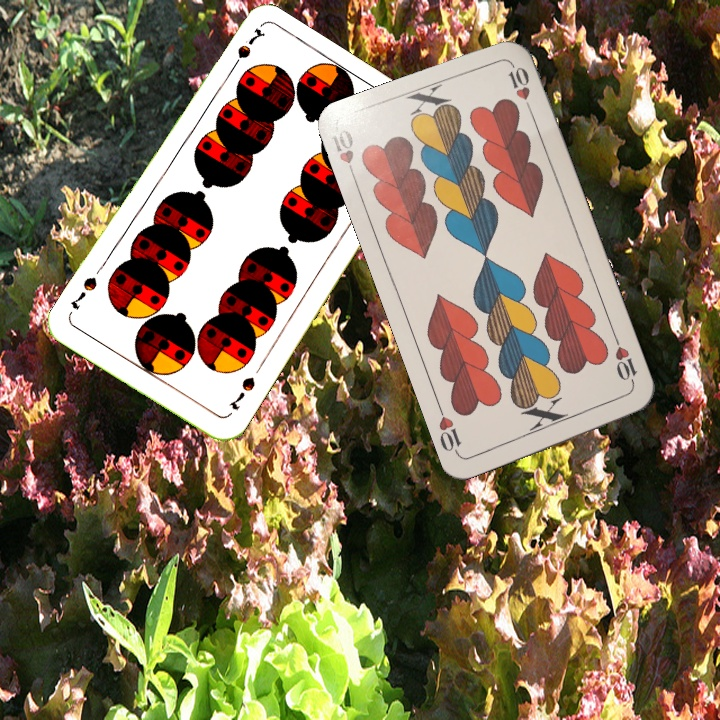H10: (328, 125, 359, 184), (610, 333, 640, 391)
S7: (225, 23, 265, 77), (225, 372, 258, 413)
